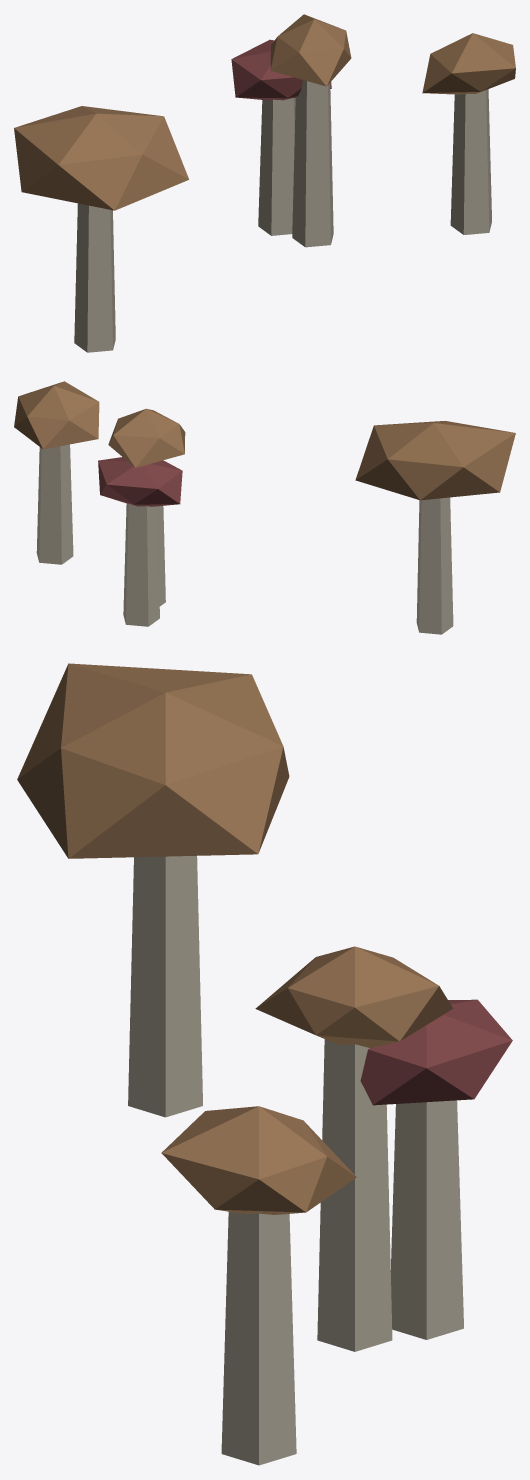
The model's file is mushrooms.glb.
The picture shows the model from 3 angles, top to bottom: view 1: azimuth 30°, elevation 25°; view 2: azimuth 150°, elevation 25°; view 3: azimuth 270°, elevation 25°; orthographic projection. The views are drawn at different scales.
Parts seen in each view (by area): view 1: mushrooms; view 2: mushrooms; view 3: mushrooms.
Part boxes in pixels (left/top/right/bottom): mushrooms: left=14, top=14, right=515, bottom=352; mushrooms: left=14, top=381, right=515, bottom=634; mushrooms: left=17, top=663, right=512, bottom=1465.
Bounding box in the file's own units: 0.6704 × 0.2852 × 0.3139.
1 material, 1 textured.
